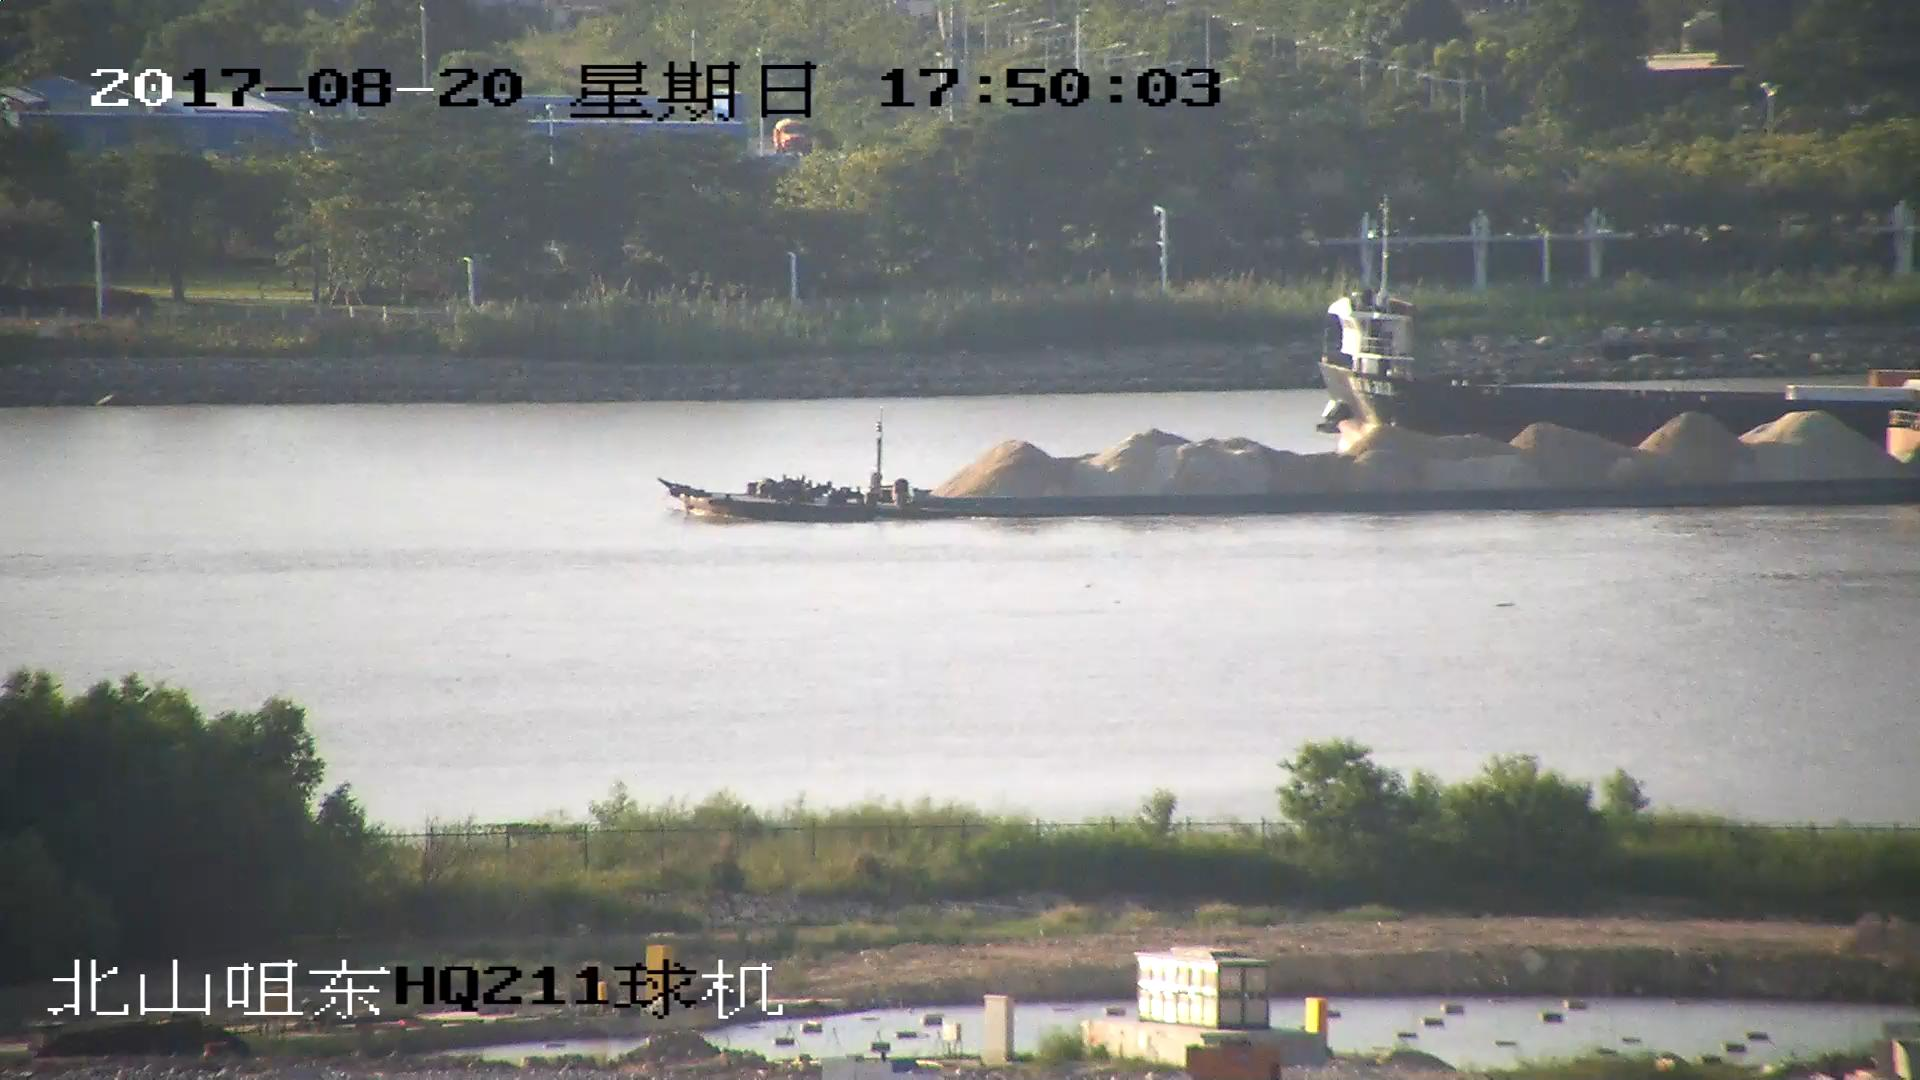general cargo ship: (1318, 205, 1920, 439)
ore carrier: (657, 422, 1920, 519)
